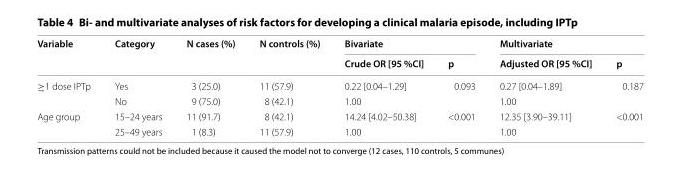table: (36, 36, 642, 137)
table column: (486, 36, 603, 137), (331, 36, 435, 137), (246, 36, 331, 137), (173, 36, 246, 137), (101, 36, 173, 137), (36, 36, 101, 137), (435, 36, 486, 137), (603, 36, 642, 137)
table column header: (36, 36, 642, 74)
table row: (36, 52, 642, 74), (36, 74, 642, 93), (36, 36, 642, 52), (36, 93, 642, 108), (36, 108, 642, 123), (36, 123, 642, 137)
table spanning cell: (246, 36, 331, 74), (173, 36, 246, 74), (101, 36, 173, 74), (486, 36, 642, 52), (331, 36, 486, 52), (36, 36, 101, 74), (36, 74, 101, 108), (36, 108, 101, 137)
